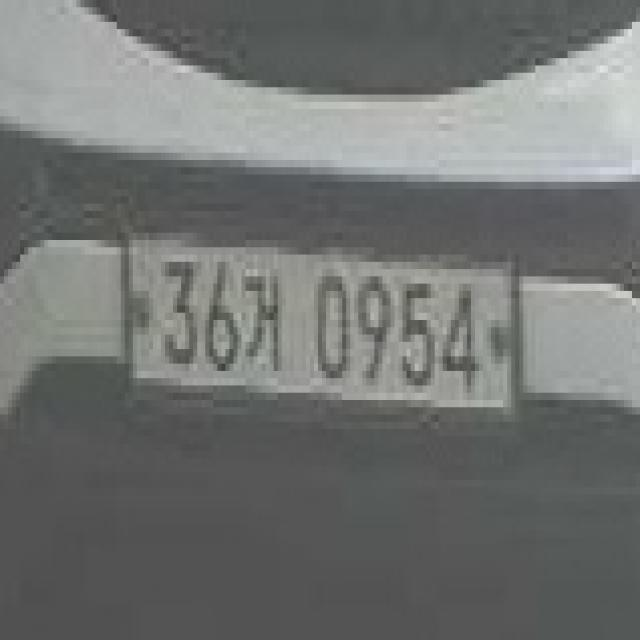0: (314, 262, 350, 378)
3: (161, 254, 201, 371)
4: (443, 284, 479, 392)
5: (398, 269, 439, 393)
6: (206, 254, 242, 371)
9: (358, 276, 394, 386)
geo: (237, 269, 286, 371)
license_plate: (125, 233, 519, 429)
